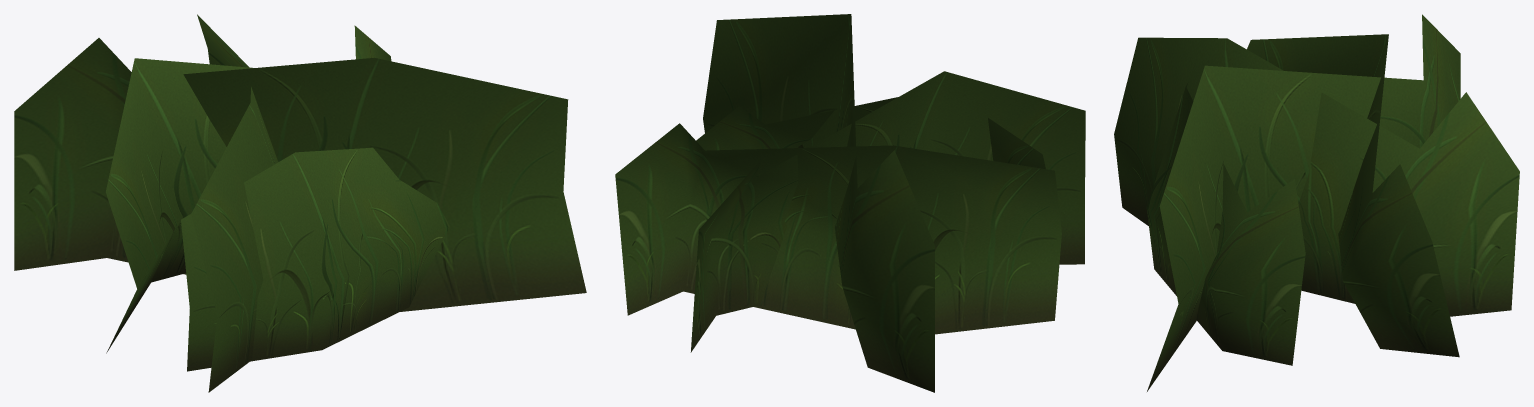
File: grass.glb
The picture shows the model from 3 angles, left to right: view 1: azimuth 30°, elevation 25°; view 2: azimuth 150°, elevation 25°; view 3: azimuth 270°, elevation 25°; orthographic projection. The views are drawn at different scales.
Parts seen in each view (by area): view 1: GrassPatch01; view 2: GrassPatch01; view 3: GrassPatch01.
Part boxes in pixels (x1,y1,x2,y2): GrassPatch01: (14, 14, 586, 392); GrassPatch01: (615, 14, 1085, 392); GrassPatch01: (1114, 14, 1519, 391).
Size of the model in its own units: 61.18 by 35.25 by 53.26.
Materials: 1 (1 with a texture image).
